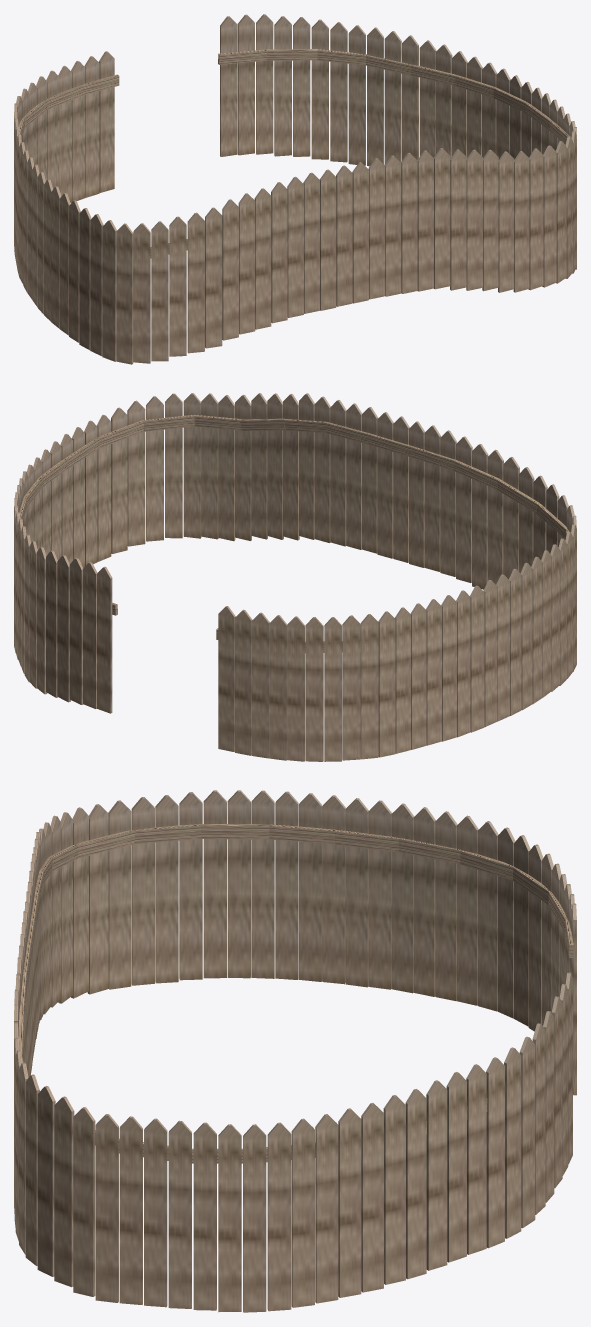
File: BetterFence.glb
3 renders of one model, top to bottom at view 1: azimuth 30°, elevation 25°; view 2: azimuth 150°, elevation 25°; view 3: azimuth 270°, elevation 25°, orthographic. The views are drawn at different scales.
Parts seen in each view (by area): view 1: Cube.086; view 2: Cube.086; view 3: Cube.086.
Boxes of the visible parts, bbox=[...] form: Cube.086: bbox=[14, 14, 576, 364]; Cube.086: bbox=[14, 393, 576, 761]; Cube.086: bbox=[14, 790, 576, 1312].
Size of the model in its own units: 36.8 by 13.34 by 27.78.
Materials: 1 (1 with a texture image).
